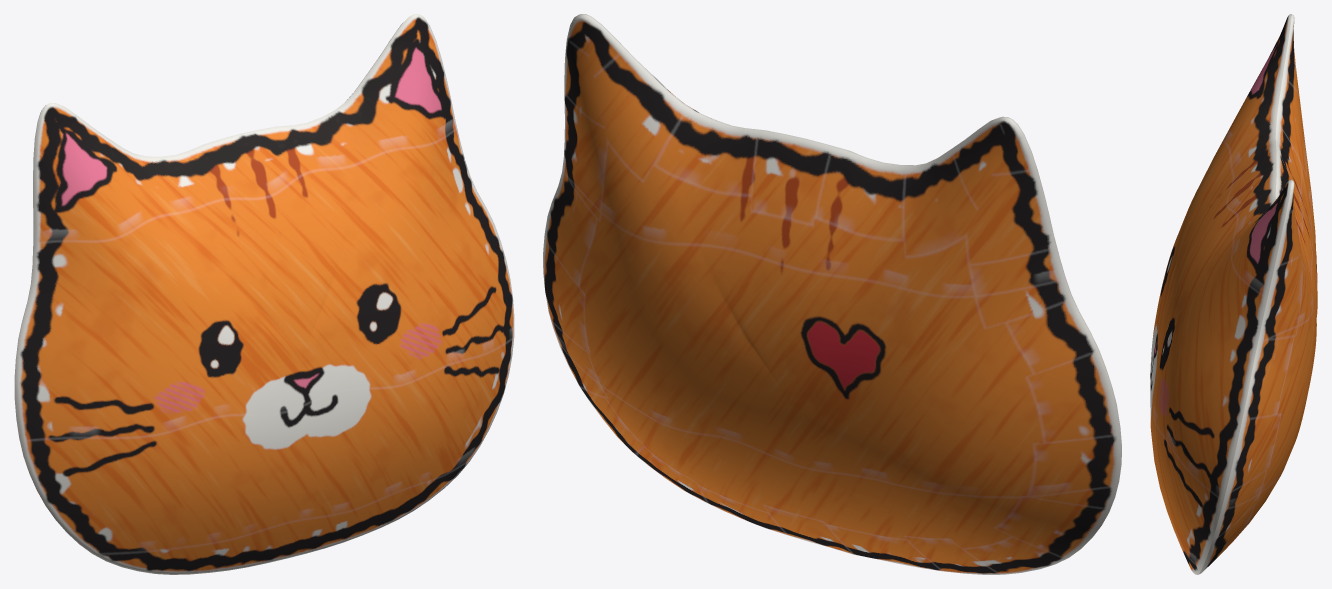
File: PaperSquishy.fbx
3 views of the same model, side by side, from view 1: azimuth 30°, elevation 25°; view 2: azimuth 150°, elevation 25°; view 3: azimuth 270°, elevation 25° (orthographic). The views are drawn at different scales.
Visible parts, largest first — view 1: PaperSquishy_Body; view 2: PaperSquishy_Body; view 3: PaperSquishy_Body.
Part boxes in pixels (x1=…): PaperSquishy_Body: x1=14, y1=14, x2=514, y2=574; PaperSquishy_Body: x1=543, y1=14, x2=1121, y2=574; PaperSquishy_Body: x1=1150, y1=14, x2=1317, y2=574.
Bounding box in the file's own units: 0.4646 × 0.412 × 0.1452.
1 material, 1 textured.
